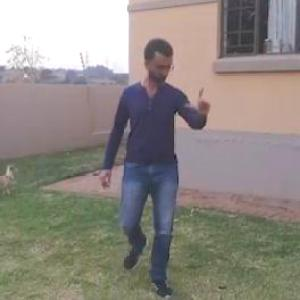land_hand: (180, 78, 218, 125)
